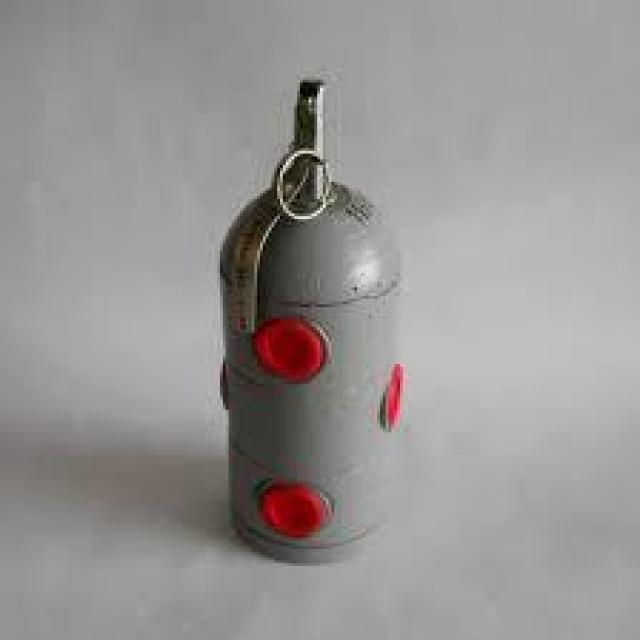grenade: (212, 74, 414, 563)
